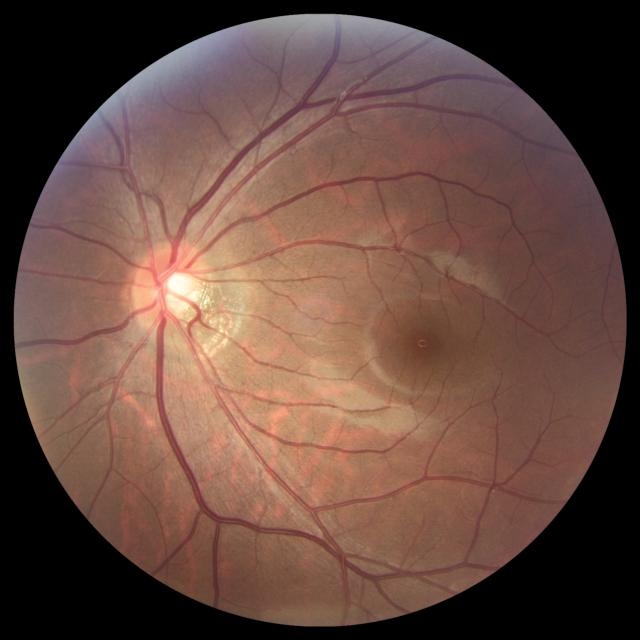OC: (157, 270, 194, 311)
OD: (129, 242, 207, 326)
